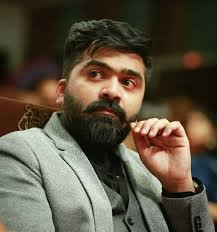noMask: (49, 13, 158, 148)
